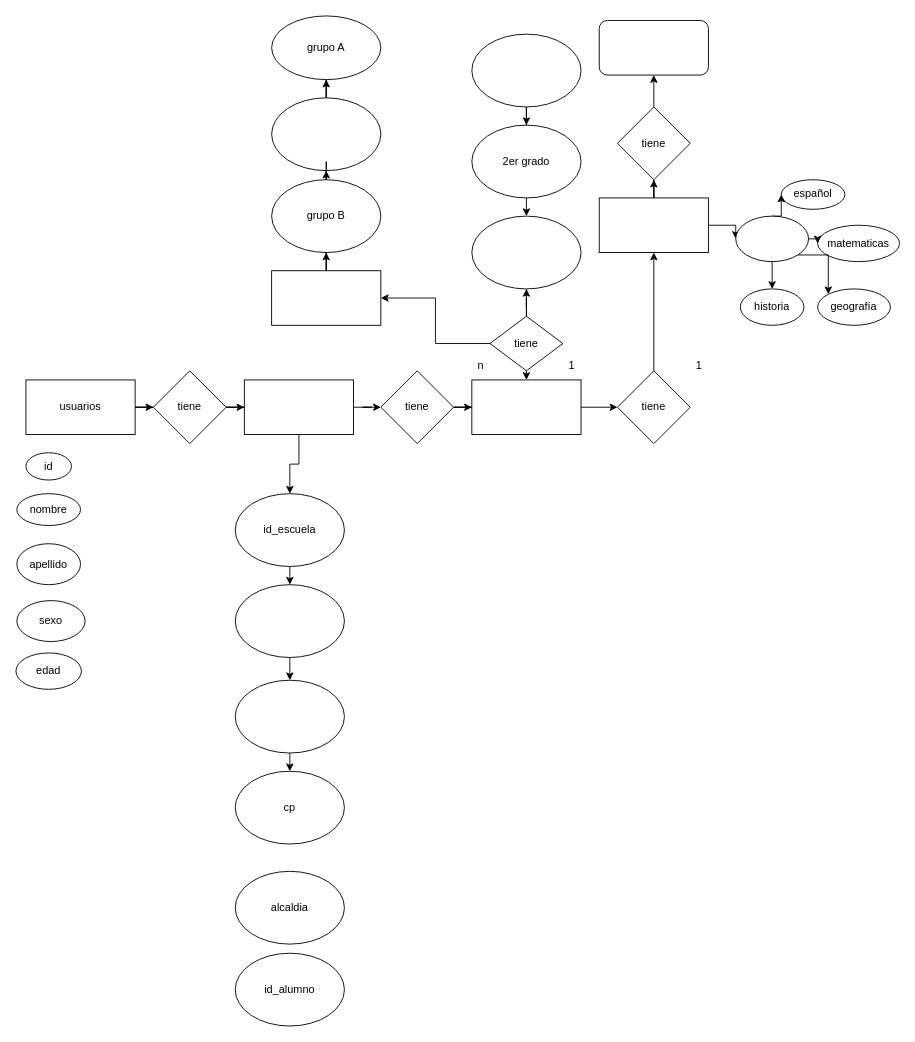
Image size: 915x1042. Some labels were removed from this diagram. Here are the shapes that lost their labels. From the top down, the centre of each, then its label:
At pixel 653 47: "docentes".
At pixel 526 70: "3er grado".
At pixel 326 134: "grupo C".
At pixel 653 225: "materias".
At pixel 772 238: "ingles".
At pixel 526 252: "1er grado".
At pixel 326 297: "grupos".
At pixel 298 407: "escuela(plantel)".
At pixel 526 407: "grados".
At pixel 289 620: "NomPlantel".
At pixel 289 716: "direccion".
